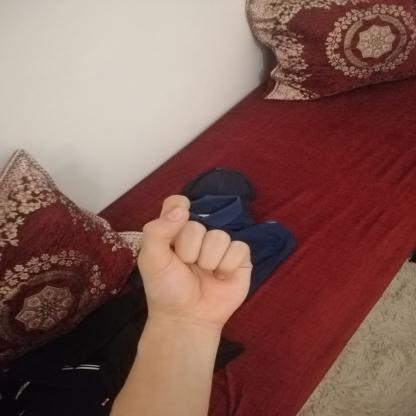FAA: (121, 186, 269, 334)
